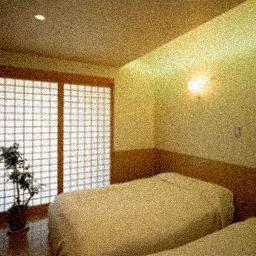Matera: (0, 141, 40, 237)
Puerta: (61, 81, 112, 188)
